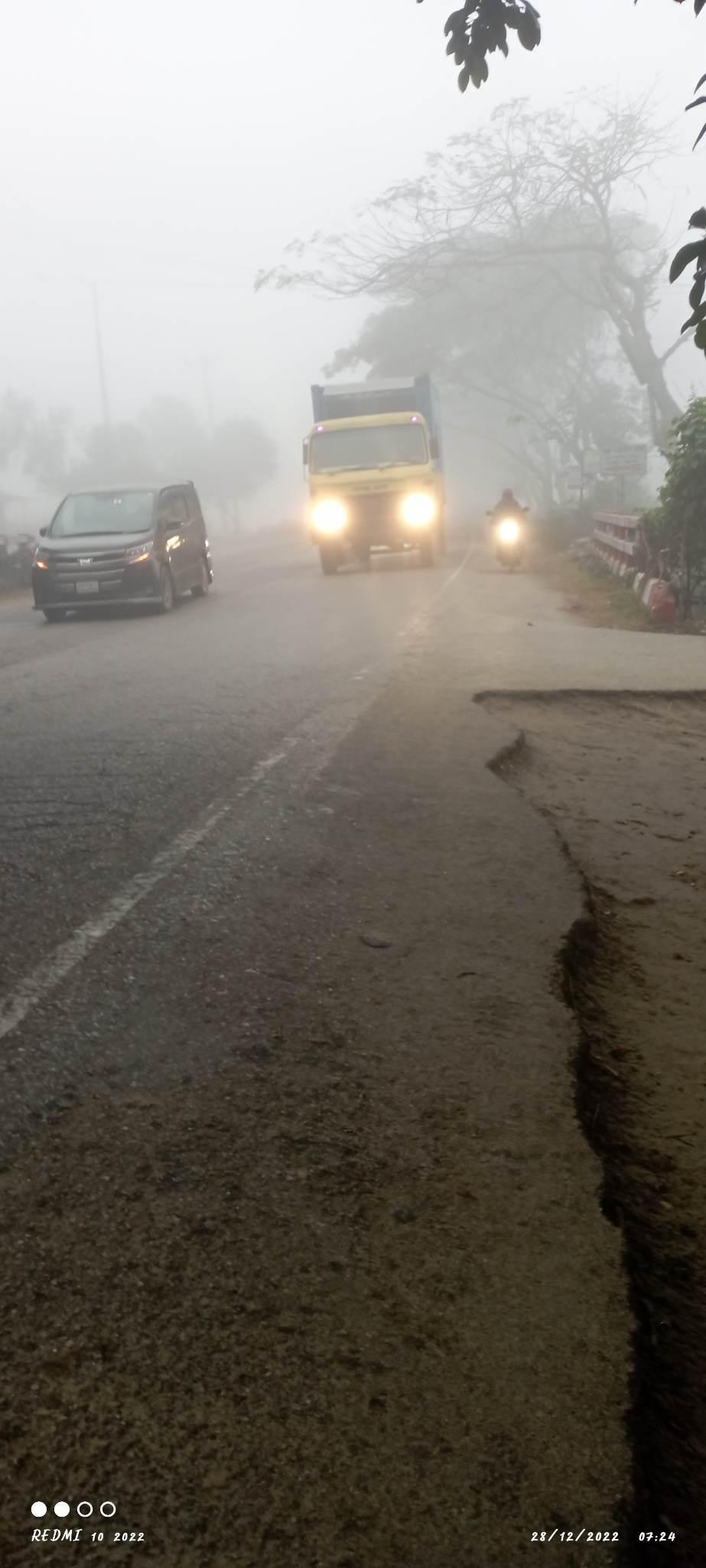Bike: (481, 482, 530, 582)
Car: (24, 455, 234, 631)
Truck: (285, 352, 460, 599)
